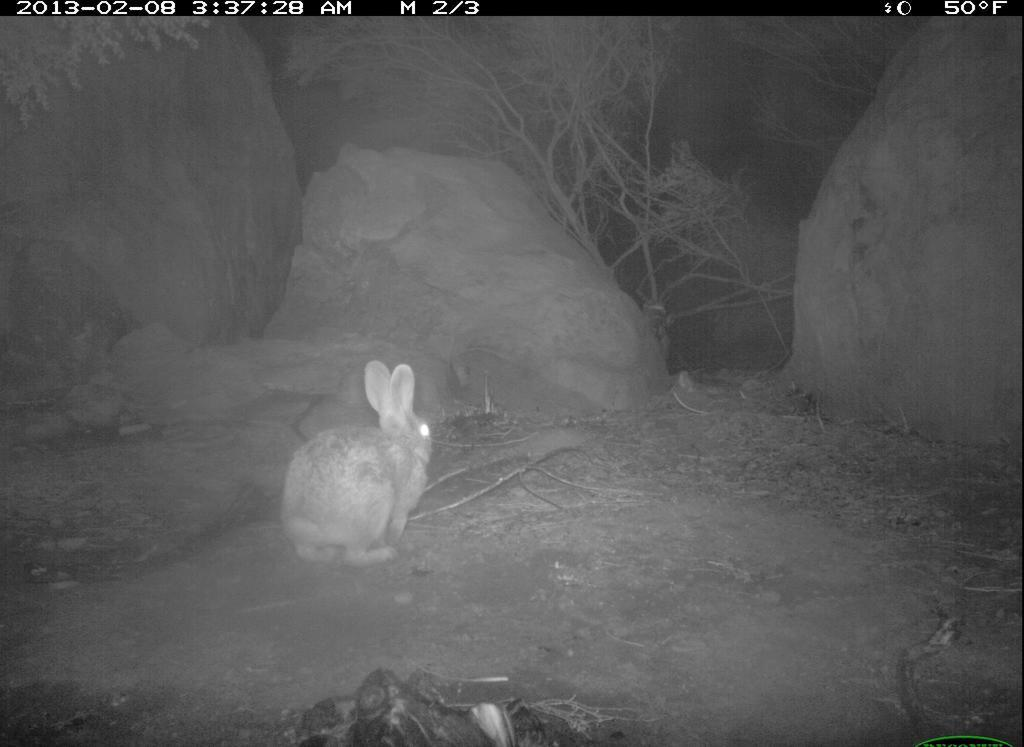rabbit: (268, 354, 442, 579)
